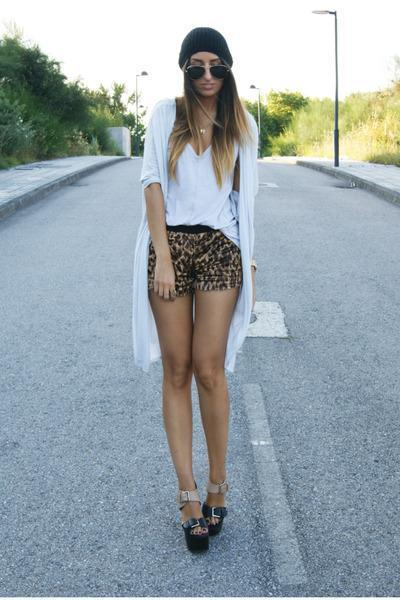hat: (182, 27, 232, 72)
jacket: (123, 99, 271, 371)
shoe: (183, 519, 220, 554)
shorts: (147, 224, 242, 299)
sunglass: (179, 49, 236, 91)
